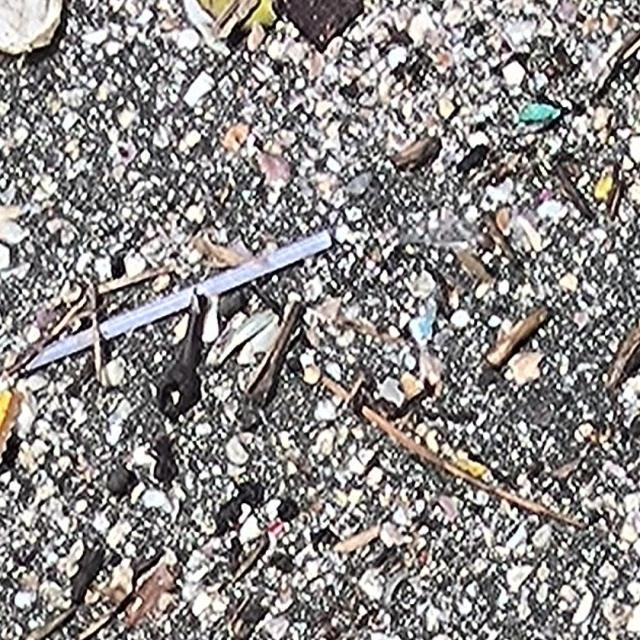plastic_waste: (23, 226, 337, 375)
